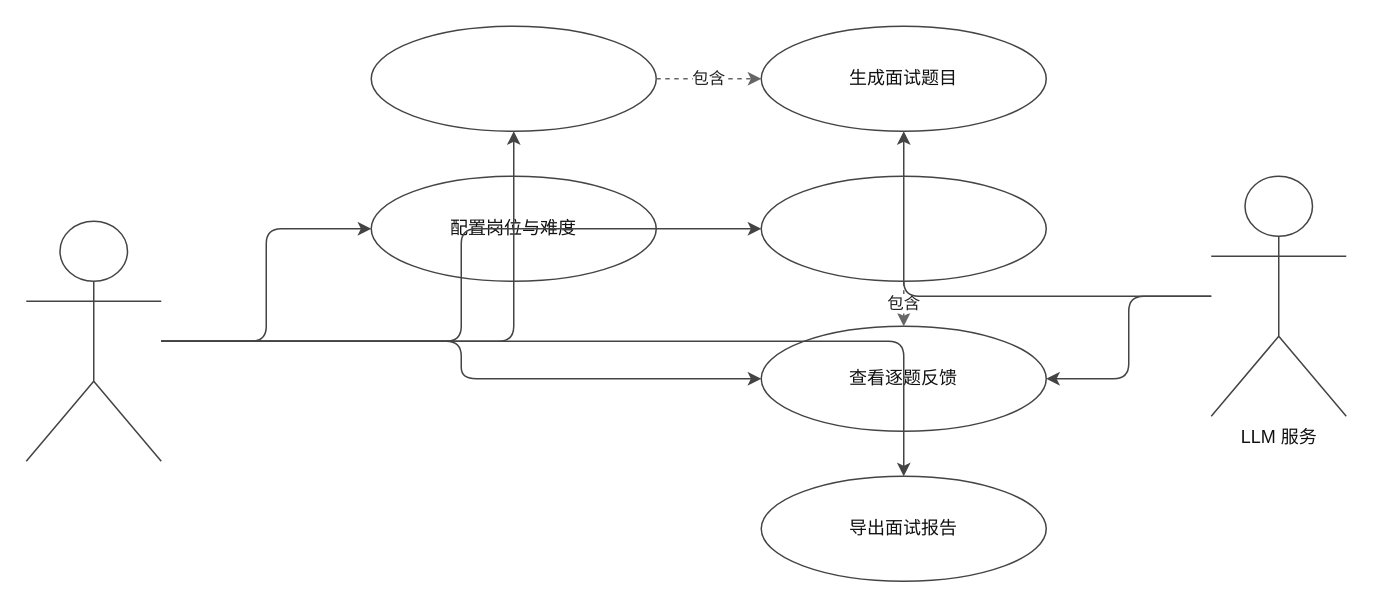
The diagram is 1373 pixels wide and 608 high, and some of its shapes have lost their labels. The box of each missing label's shape, as (x1, y1, x2, y2) in pixels:
创建面试会话: (370, 25, 656, 131)
提交文字答案: (760, 175, 1046, 281)
求职者: (25, 220, 161, 461)
